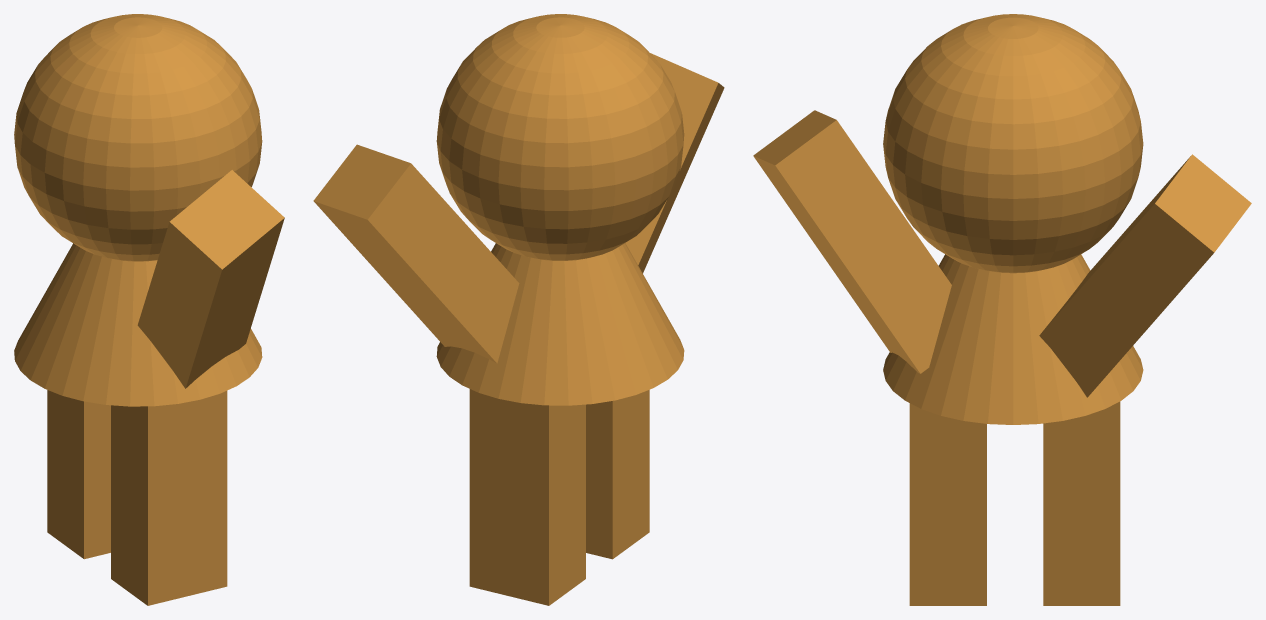
Rendered from girl.fbx.
The picture shows the model from 3 angles, left to right: view 1: azimuth 30°, elevation 25°; view 2: azimuth 150°, elevation 25°; view 3: azimuth 270°, elevation 25°; orthographic projection. The views are drawn at different scales.
Visible parts, largest first — view 1: Sphere, Cube, Cone, Cube.002, Cube.001; view 2: Sphere, Cone, Cube.001, Cube.003, Cube, Cube.002; view 3: Sphere, Cone, Cube.002, Cube.003, Cube.001, Cube.
Part boxes in pixels (<box>): Sphere: <box>14,14,262,261</box>; Cube: <box>111,391,227,605</box>; Cone: <box>14,243,262,406</box>; Cube.002: <box>137,170,284,388</box>; Cube.001: <box>47,390,110,559</box>; Sphere: <box>436,14,684,260</box>; Cone: <box>436,243,684,405</box>; Cube.001: <box>469,389,585,605</box>; Cube.003: <box>313,144,519,363</box>; Cube: <box>586,390,649,559</box>; Cube.002: <box>625,53,724,273</box>; Sphere: <box>883,14,1143,273</box>; Cone: <box>883,254,1143,424</box>; Cube.002: <box>753,110,951,373</box>; Cube.003: <box>1039,154,1251,397</box>; Cube.001: <box>1043,401,1120,605</box>; Cube: <box>909,403,986,605</box>.
Bounding box in the file's own units: 241 × 474 × 383.
